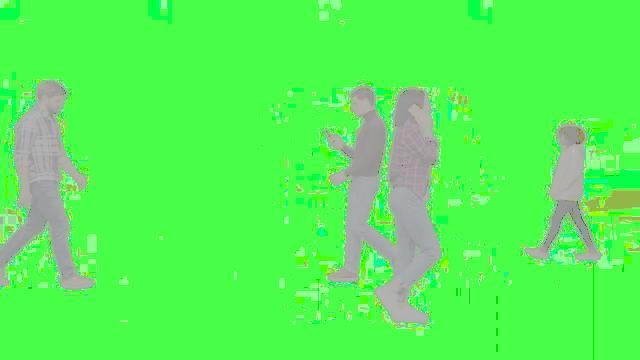berjalan: (0, 74, 98, 290), (323, 86, 419, 284), (378, 80, 437, 322), (522, 121, 606, 269)
